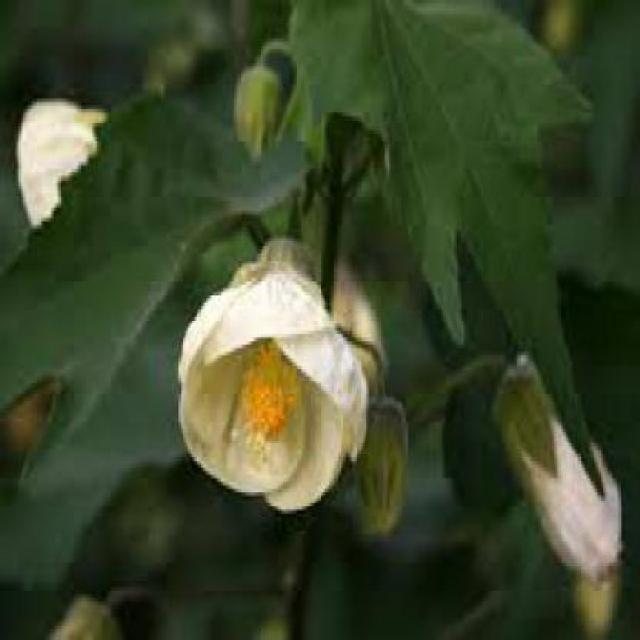Flower: (174, 236, 366, 510), (244, 349, 299, 436)
